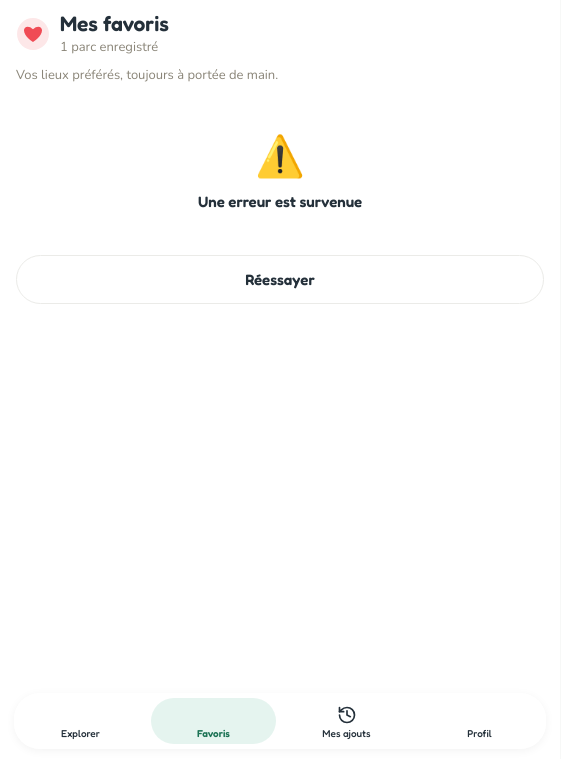
Favorites — states › shows an error state with a retry action when the fetch fails
This screenshot has width=561, height=759.
Expected: the text "Une erreur est survenue" is shown, [198,192,362,211]
Click the button "Réessayer": (280, 280) [16,255,544,304]
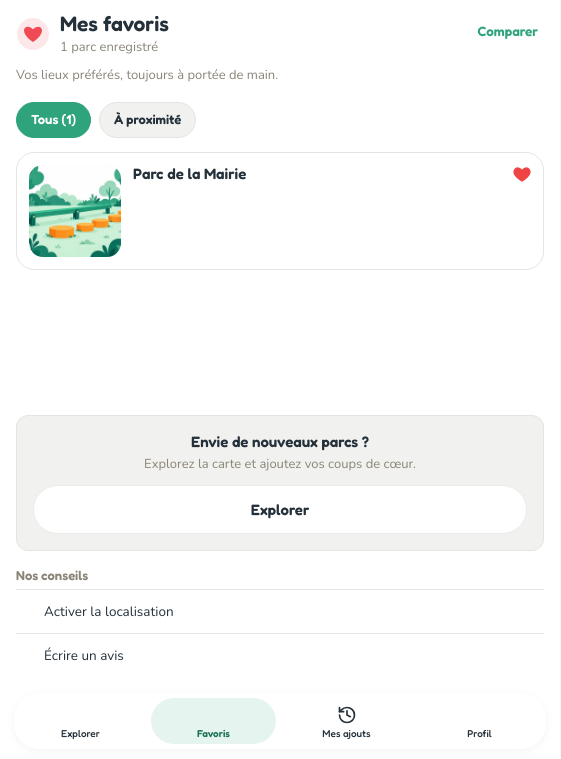
Expected: the text "Parc de la Mairie" is shown, [133,164,246,183]
